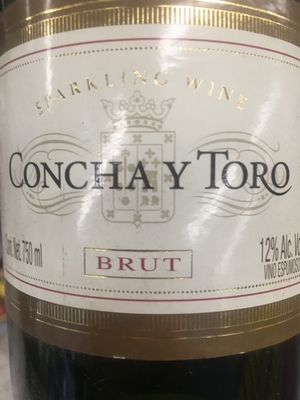brut: (1, 1, 299, 400)
